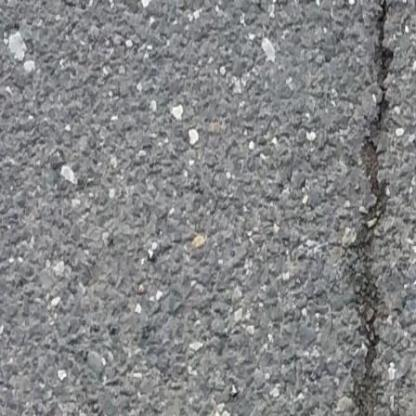Cracks: (318, 175, 408, 416), (329, 0, 416, 235)
